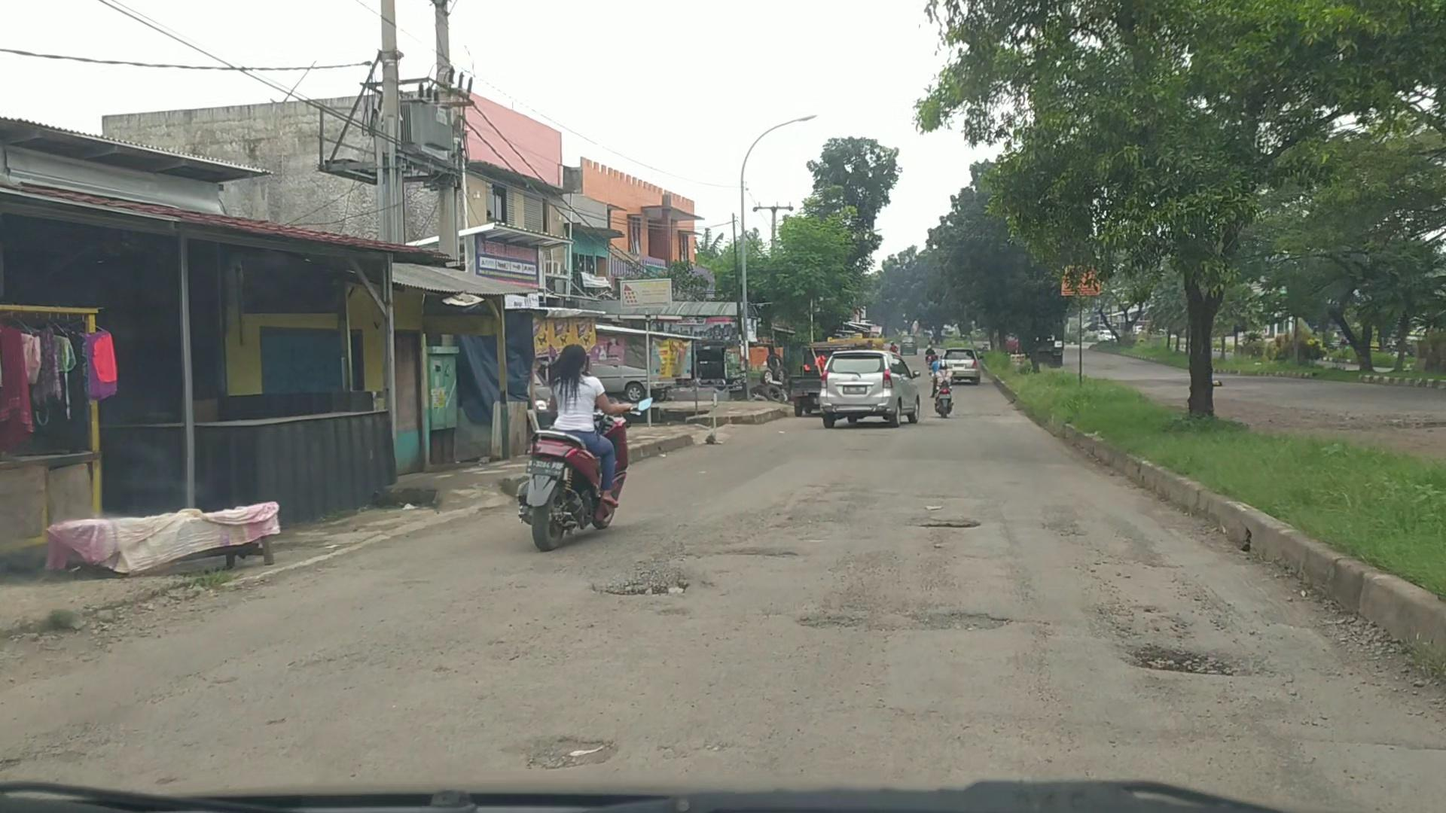pothole: (585, 547, 694, 599), (794, 610, 1012, 635), (1128, 642, 1247, 678), (521, 735, 624, 772), (713, 547, 800, 557), (915, 520, 980, 529)
